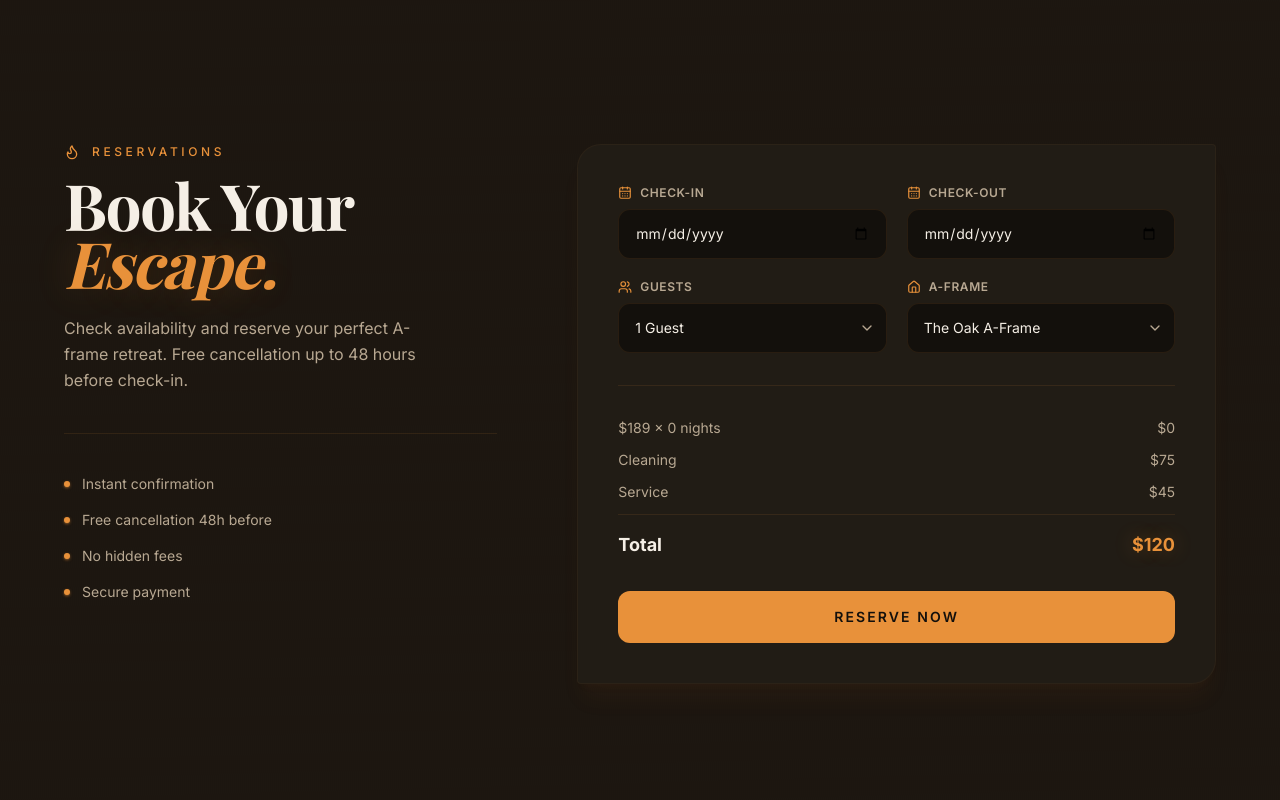
Test: Booking › shows confirmation modal on reserve click with dates
In the date field labelled "Check-in": coordinates (752, 234) [618,209,887,259], type "2025-03-15"
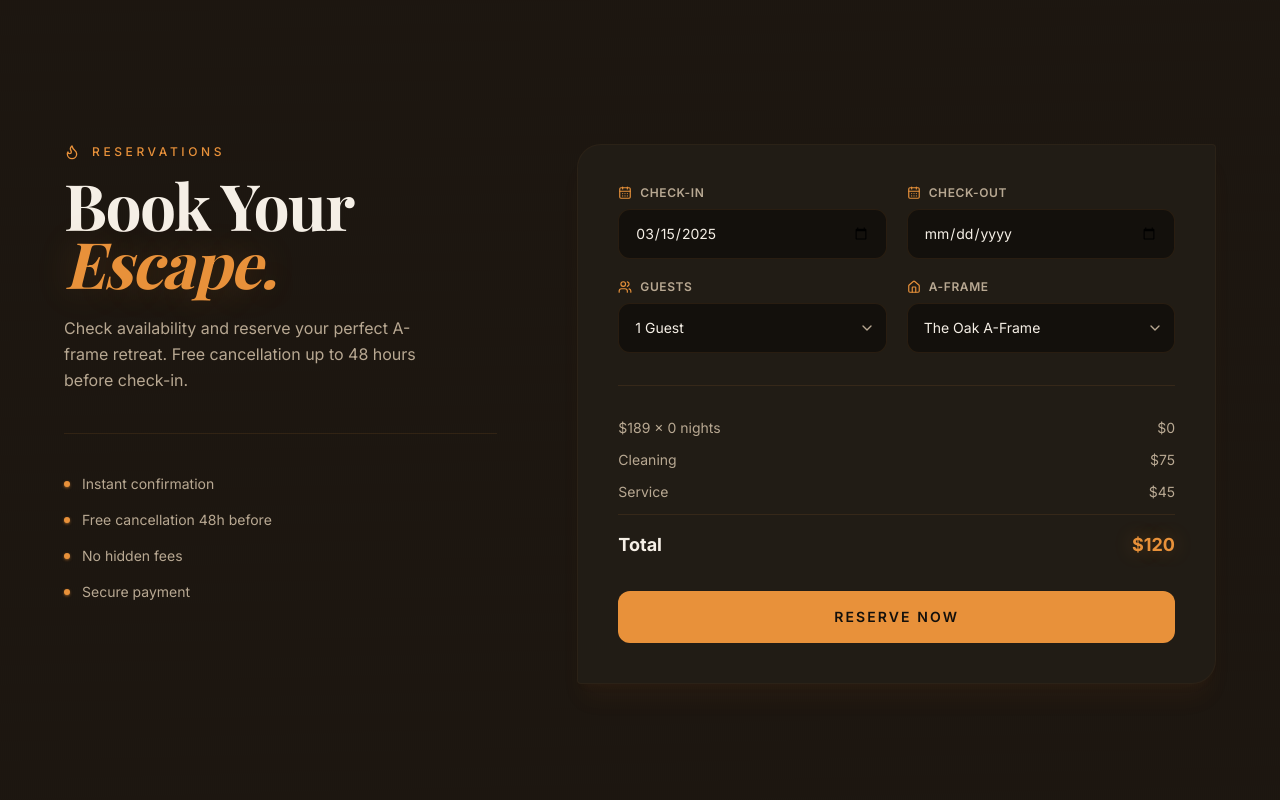
In the date field labelled "Check-out": coordinates (1041, 234) [907,209,1175,259], type "2025-03-18"
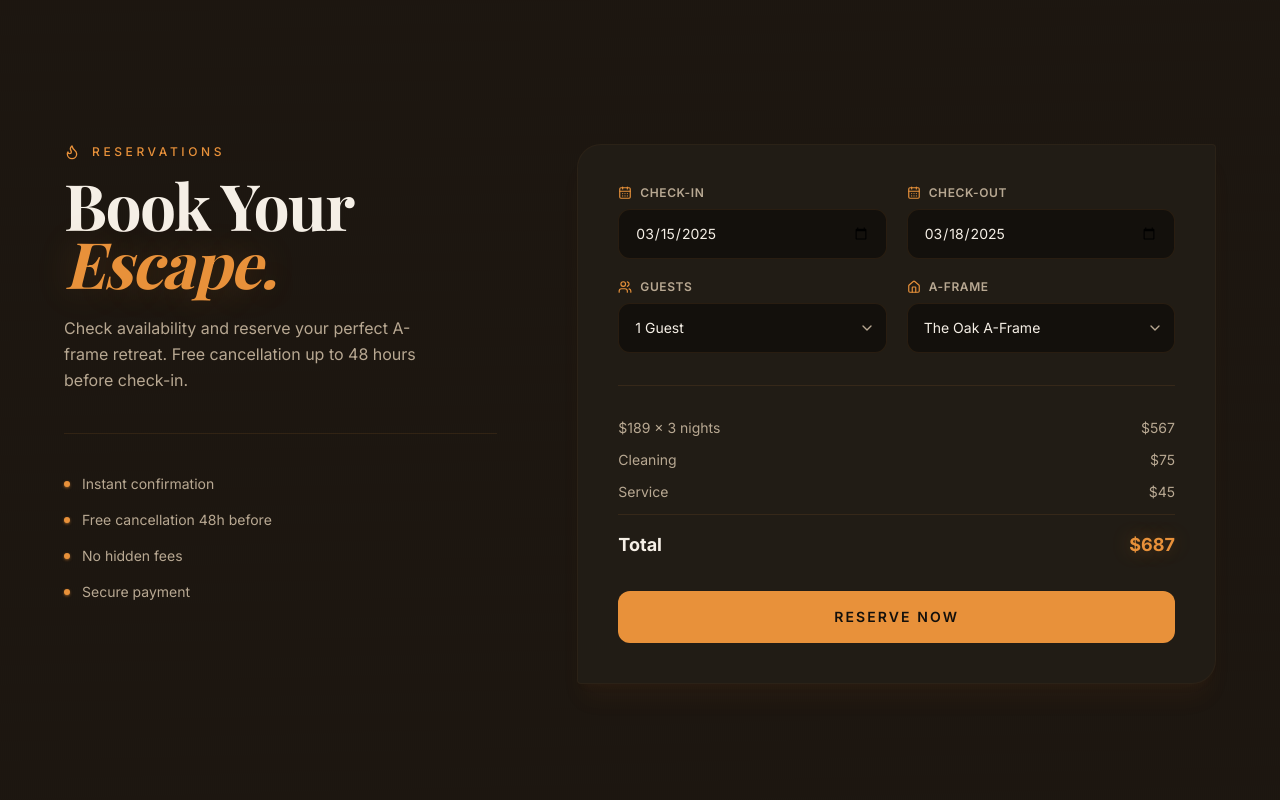
Click the button "Reserve Now": coordinates (897, 617) [618,591,1175,643]
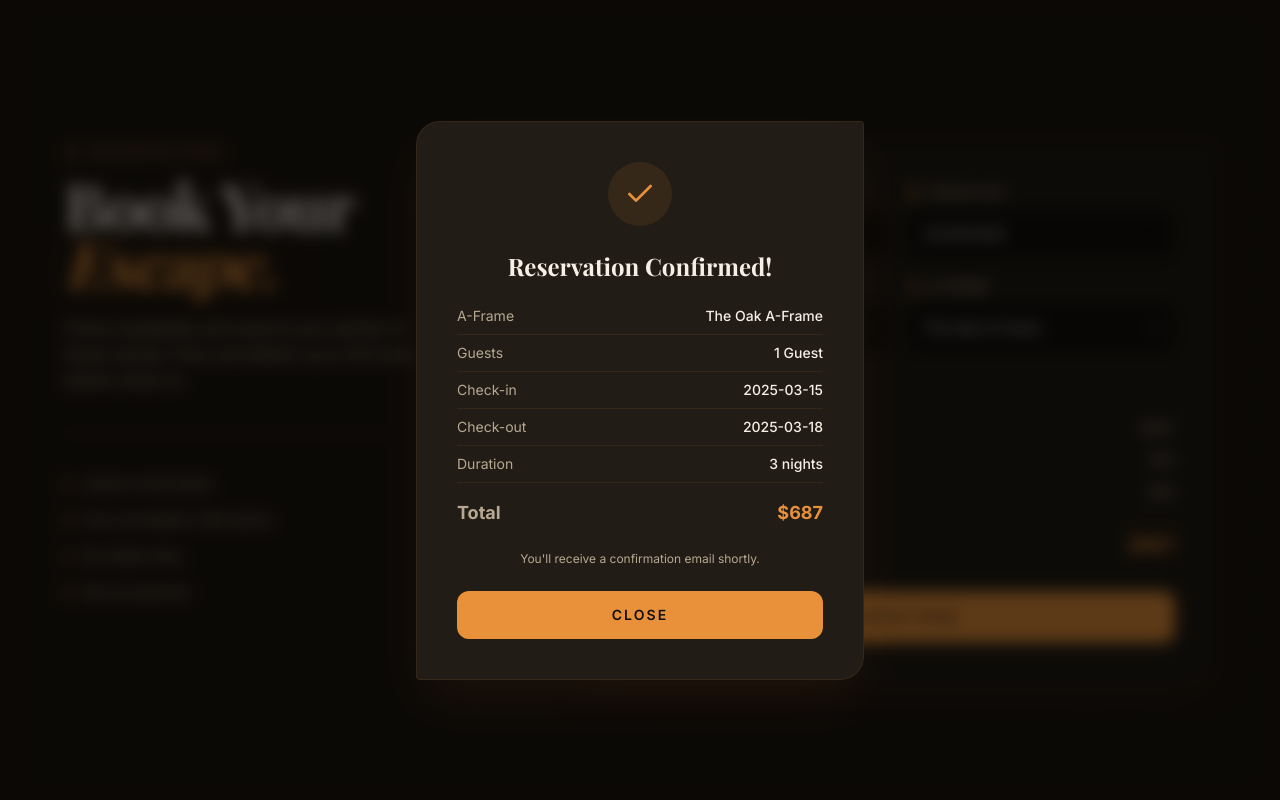
Result: the heading "Reservation Confirmed!" is shown at [508,250,772,282]
